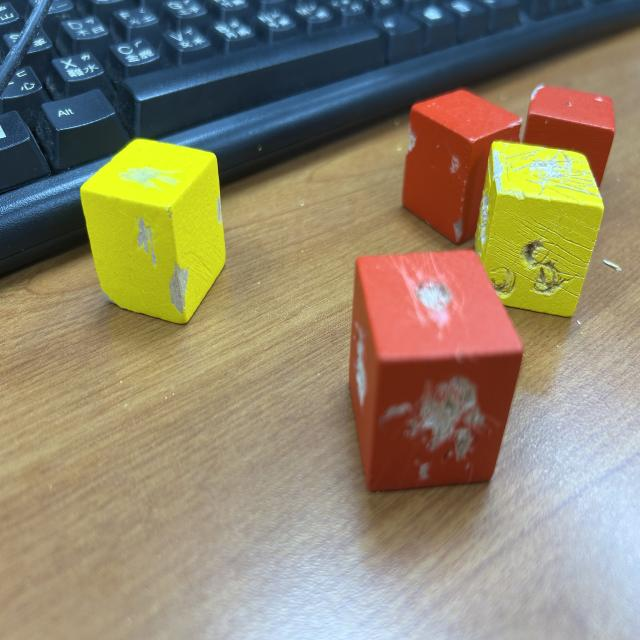broken: (349, 251, 523, 490), (79, 138, 226, 326), (402, 88, 522, 245), (518, 84, 615, 204)
